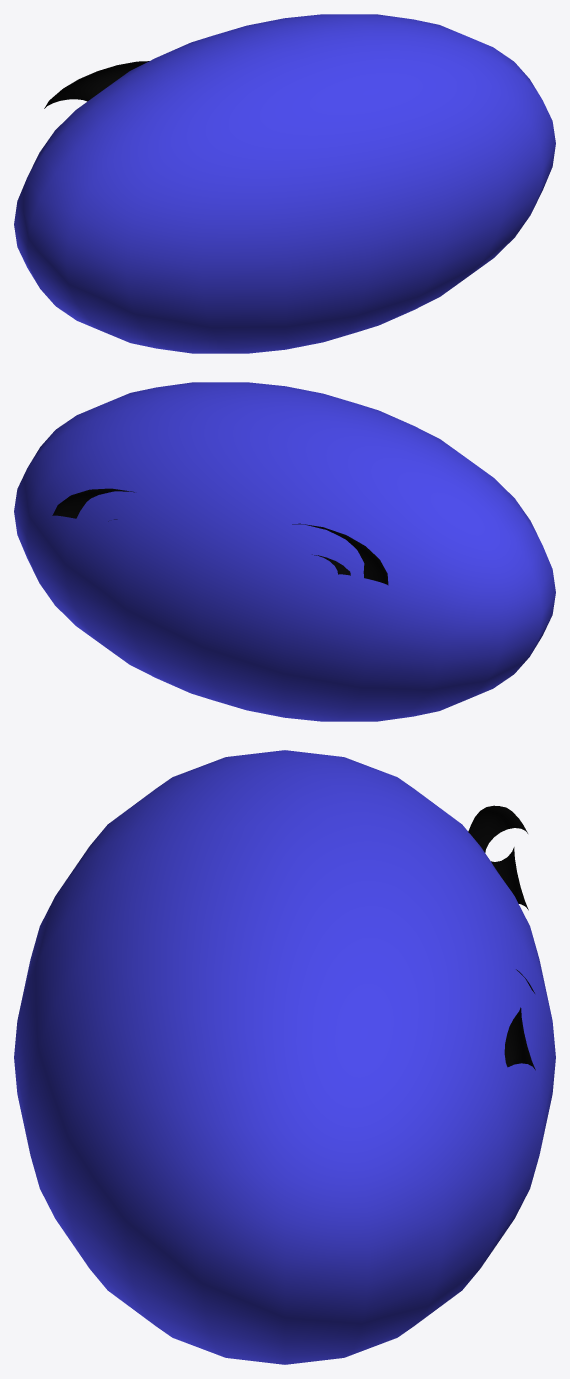
The model's file is GameClearModel1.fbx.
3 renders of one model, top to bottom at view 1: azimuth 30°, elevation 25°; view 2: azimuth 150°, elevation 25°; view 3: azimuth 270°, elevation 25°, orthographic. The views are drawn at different scales.
Visible parts, largest first — view 1: polySurface1470; view 2: polySurface1470; view 3: polySurface1470.
Boxes of the visible parts, left/top/right/bottom form: polySurface1470: left=14, top=14, right=555, bottom=353; polySurface1470: left=14, top=382, right=555, bottom=721; polySurface1470: left=14, top=750, right=555, bottom=1364.
Bounding box in the file's own units: 5.12 × 2.78 × 2.92.
